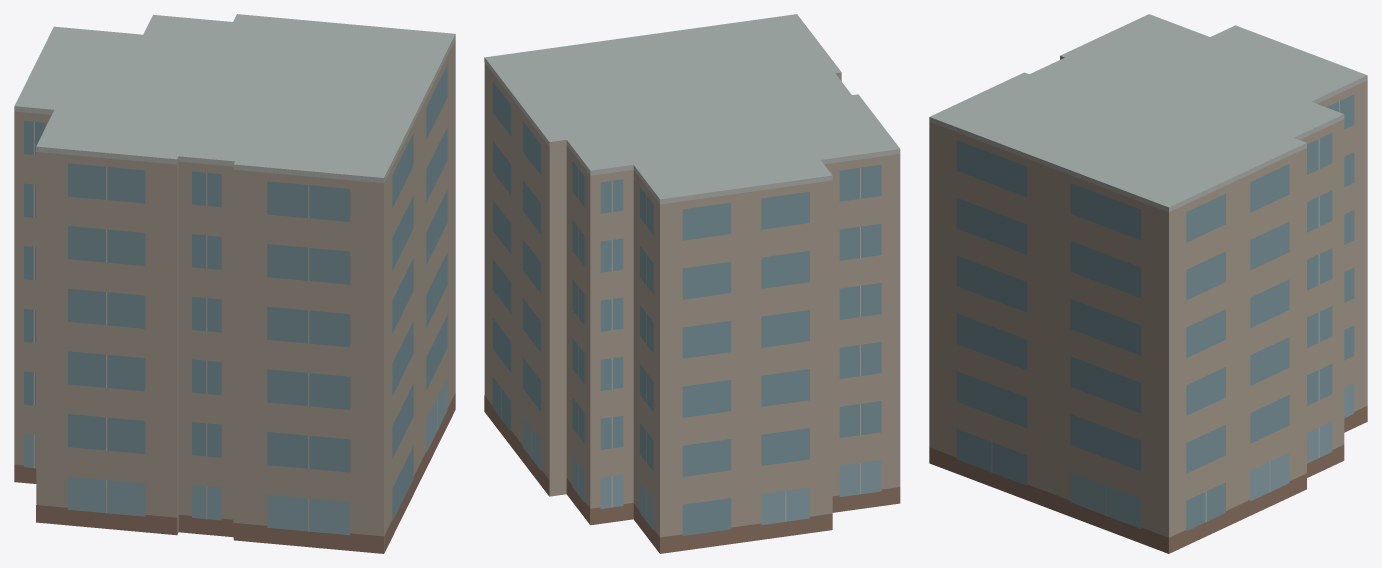
File: survey-upis-32924404.glb
3 views of the same model, side by side, from view 1: azimuth 30°, elevation 25°; view 2: azimuth 150°, elevation 25°; view 3: azimuth 270°, elevation 25° (orthographic). The views are drawn at different scales.
Parts seen in each view (by area): view 1: survey-upis-32924404.tmp; view 2: survey-upis-32924404.tmp; view 3: survey-upis-32924404.tmp.
Part boxes in pixels (box(x1,y1,x2,y2)): survey-upis-32924404.tmp: box(14, 14, 455, 553); survey-upis-32924404.tmp: box(484, 14, 900, 553); survey-upis-32924404.tmp: box(929, 14, 1367, 553).
Bounding box in the file's own units: 20.73 × 17.3 × 19.84.
